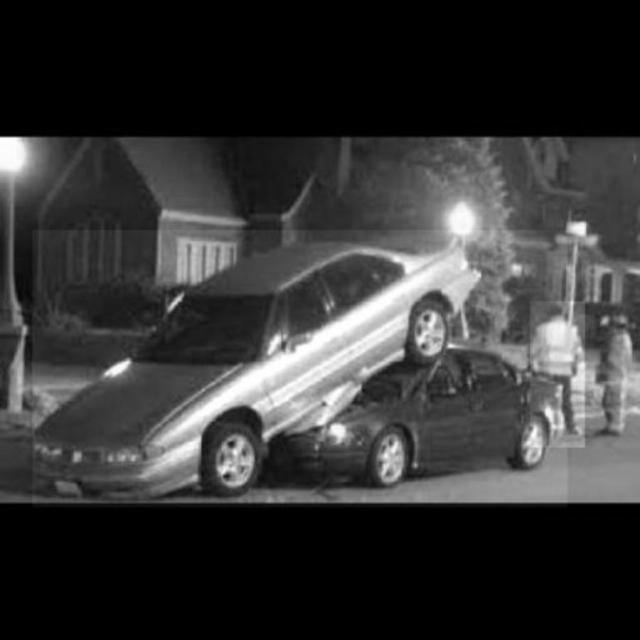accident: (34, 230, 569, 508)
person: (530, 301, 586, 447), (595, 312, 635, 438)
